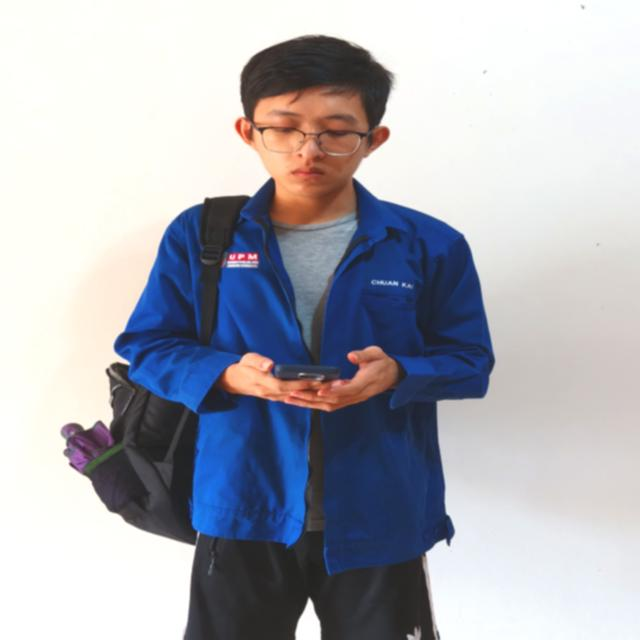person_with_labcoat: (61, 35, 494, 640)
